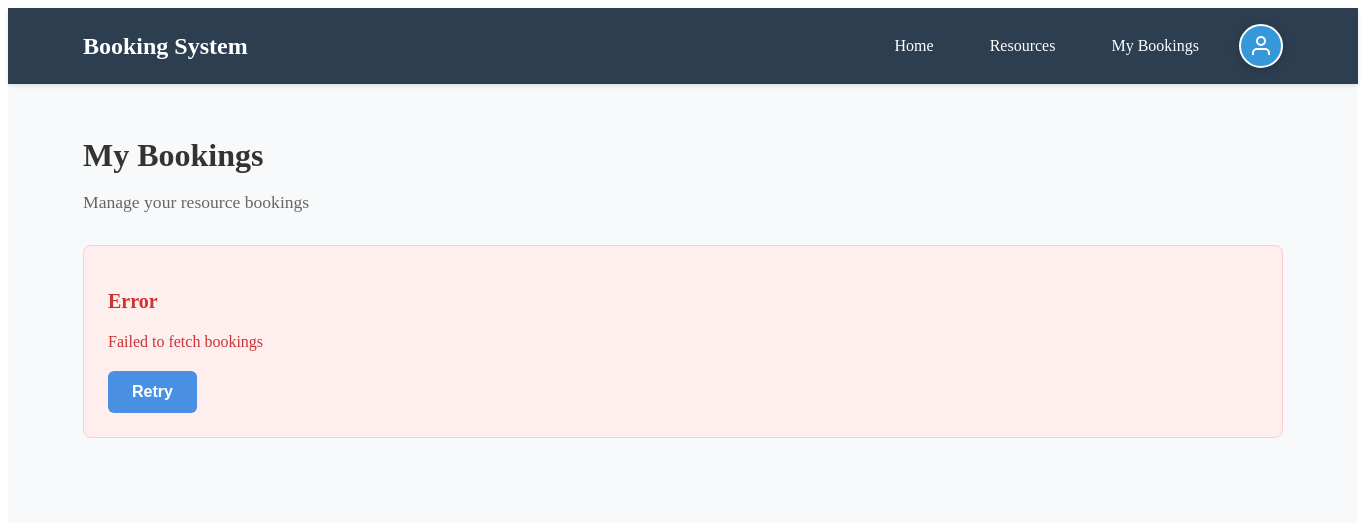
Test: BookingsPage › Error Handling › retries fetching bookings when retry button is clicked
The width and height of the screenshot is (1366, 523).
Click the button "Retry" at (152, 392), box x1=108 y1=371 x2=197 y2=413
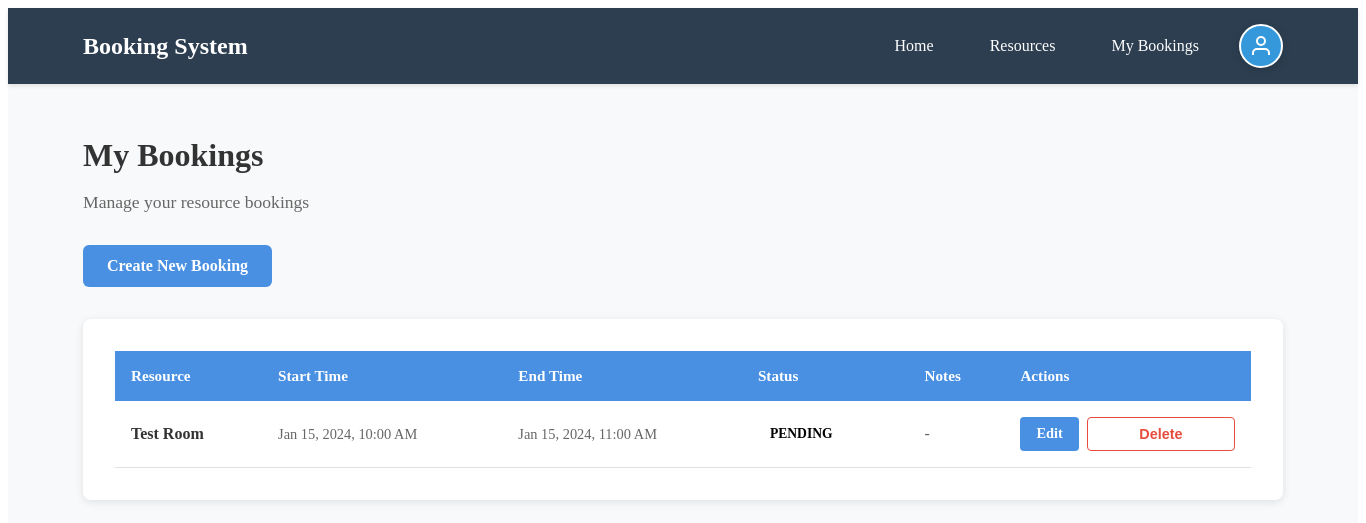
Result: the text "Test Room" is shown at x1=115 y1=401 x2=262 y2=468
